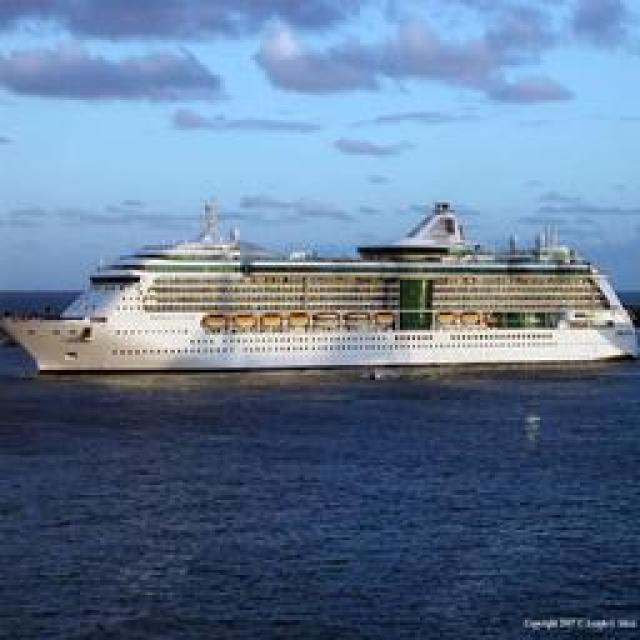ship2: (0, 197, 639, 382)
